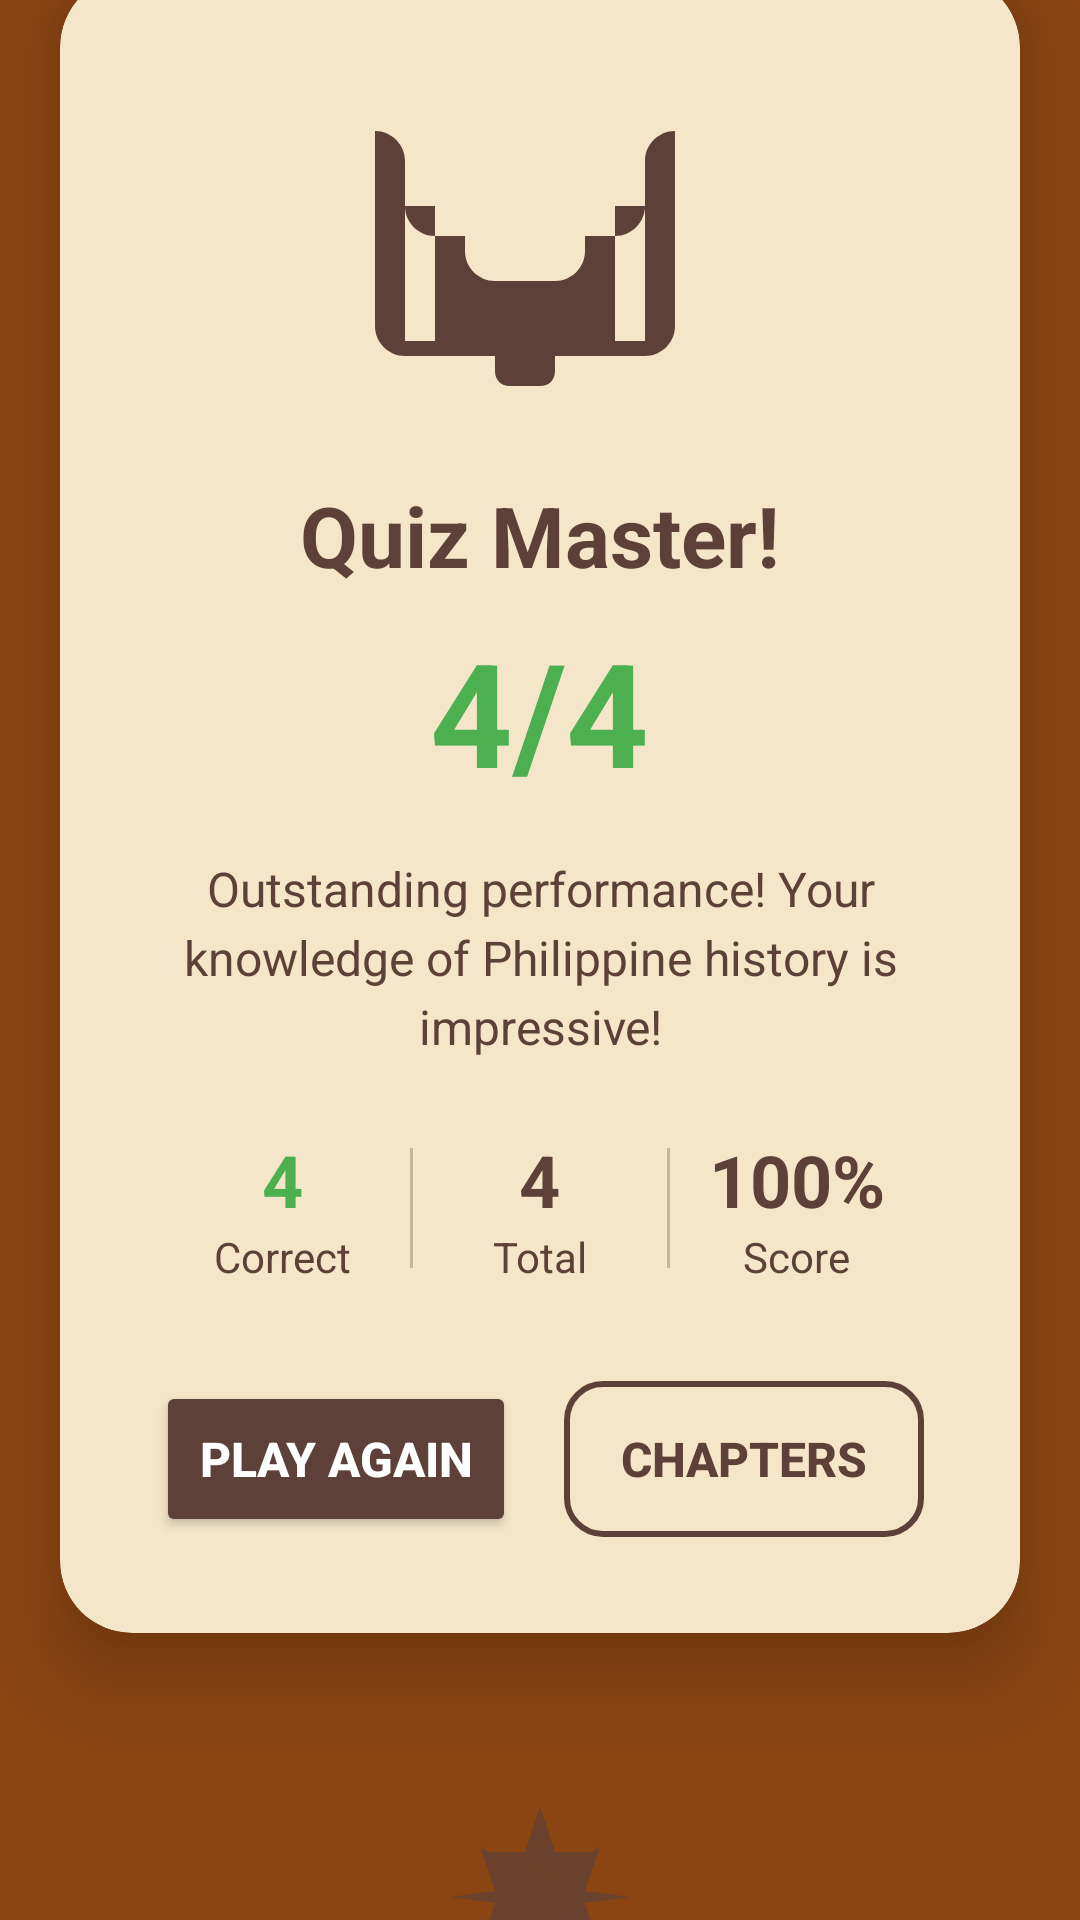

Named icons in this screenshot (1080x1920) and their bounding boxes, (x1, y1, x2, y2):
Quiz result icon: (375, 131, 675, 386)
